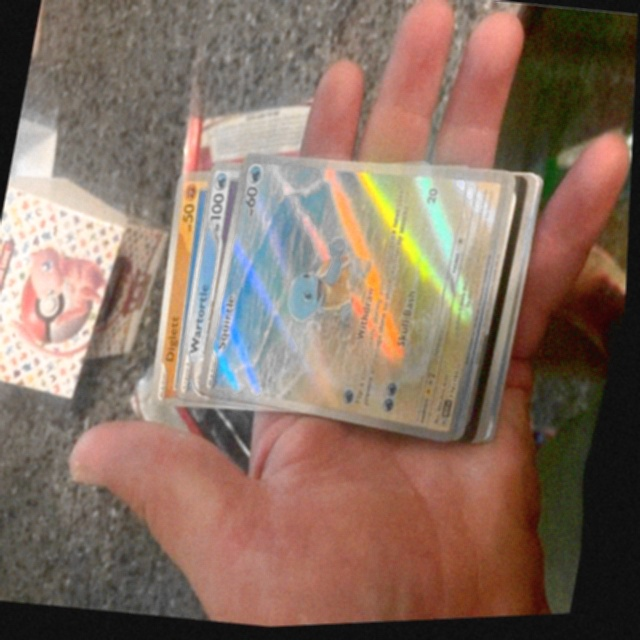card: (202, 154, 512, 448)
